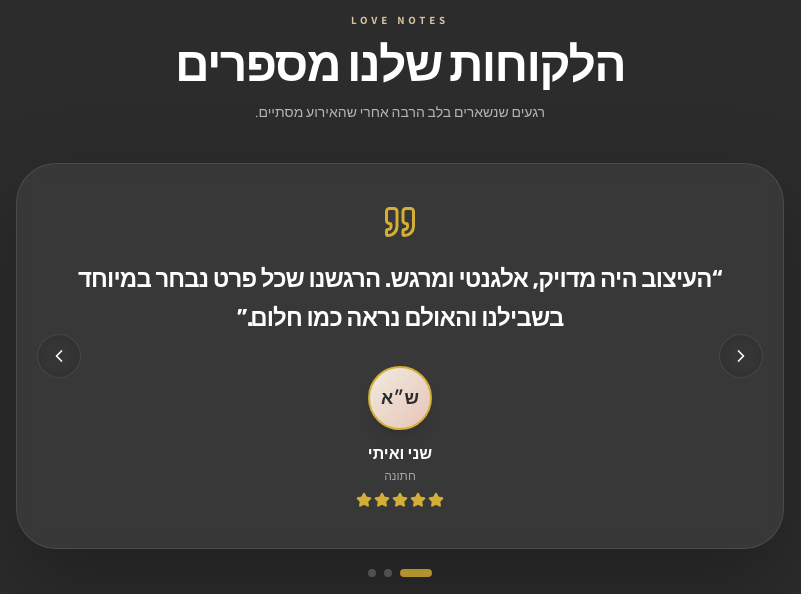
Test case: TestimonialsCarousel › moves next, previous with wraparound, and jumps directly with dots
This screenshot has width=801, height=594.
Click the button named "המלצה הבאה" at (59, 356), box [37,334,81,378]
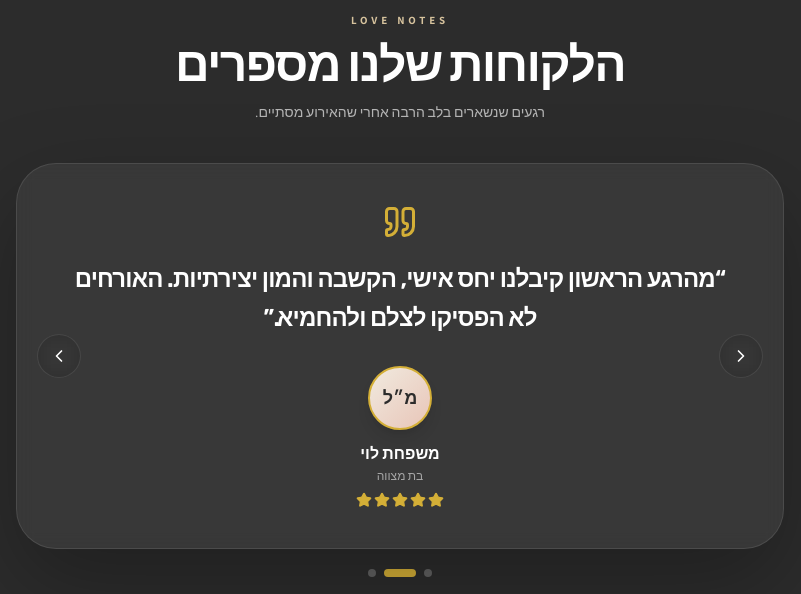
Expected: the text "משפחת לוי" is shown, [360,442,440,466]
Click the button named "המלצה קודמת" at (741, 356), box [719,334,763,378]
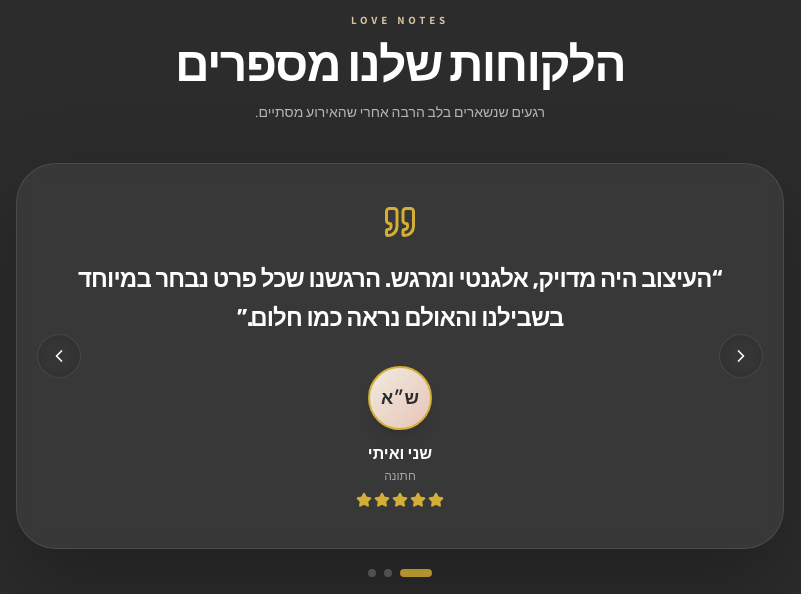
Expected: the text "שני ואיתי" is shown, [368,442,432,466]
Click the button named "המלצה קודמת" at (741, 356), box [719,334,763,378]
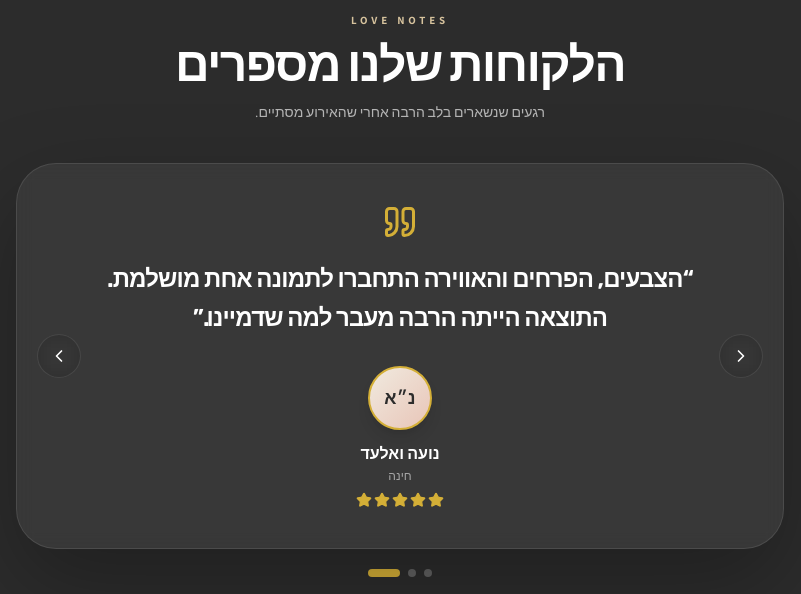
Expected: the text "נועה ואלעד" is shown, [360,442,440,466]
Click the button named "הצגת ההמלצה של משפחת לוי" at (412, 573), box [408,569,416,577]
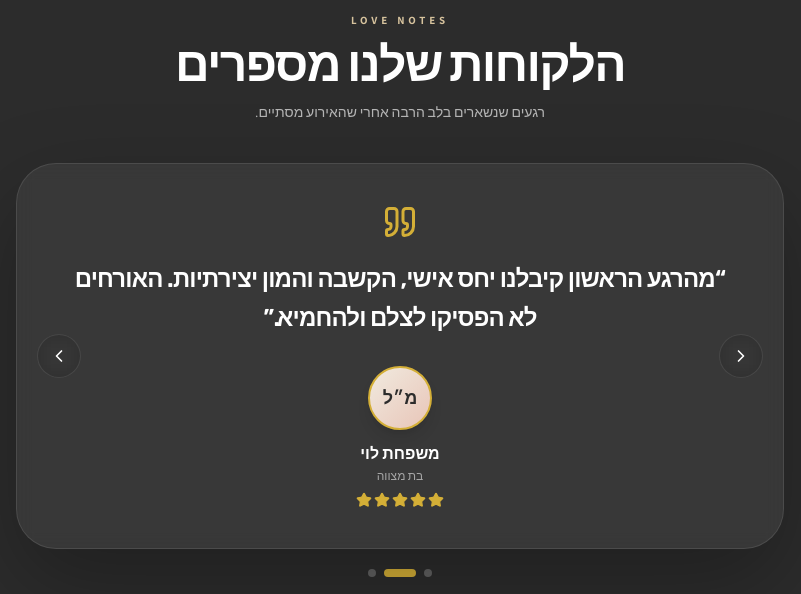
Expected: the text "משפחת לוי" is shown, [360,442,440,466]
